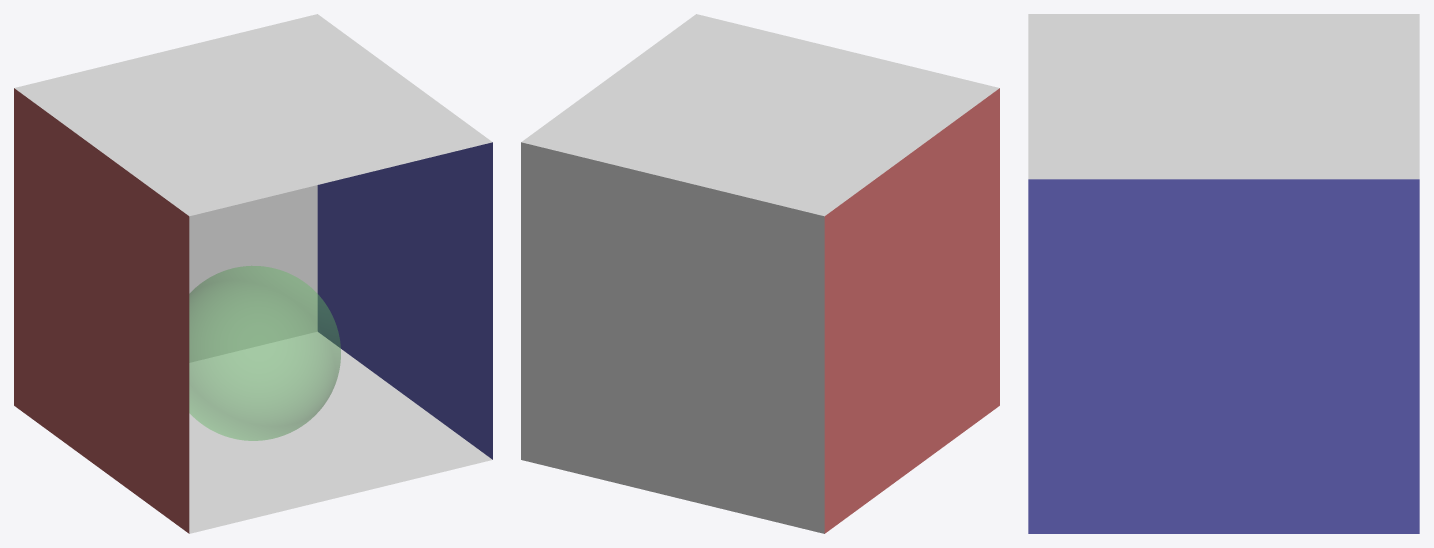
File: sphere-glass-thin.gltf
3 renders of one model, left to right at view 1: azimuth 30°, elevation 25°; view 2: azimuth 150°, elevation 25°; view 3: azimuth 270°, elevation 25°, orthographic. The views are drawn at different scales.
Parts seen in each view (by area): view 1: Plane.004, Plane.001, Plane.003, Plane, Icosphere, Plane.002; view 2: Plane.002, Plane.004, Plane.001; view 3: Plane.003, Plane.001.
Part boxes in pixels (x1,y1,x2,y2): Plane.004: (14, 88, 189, 533); Plane.001: (14, 14, 492, 216); Plane.003: (317, 142, 492, 459); Plane: (189, 331, 492, 533); Icosphere: (189, 266, 340, 440); Plane.002: (189, 185, 317, 362); Plane.002: (521, 142, 824, 533); Plane.004: (824, 88, 999, 533); Plane.001: (521, 14, 999, 216); Plane.003: (1028, 179, 1419, 533); Plane.001: (1028, 14, 1419, 179).
Bounding box in the file's own units: 4 × 4 × 4.
